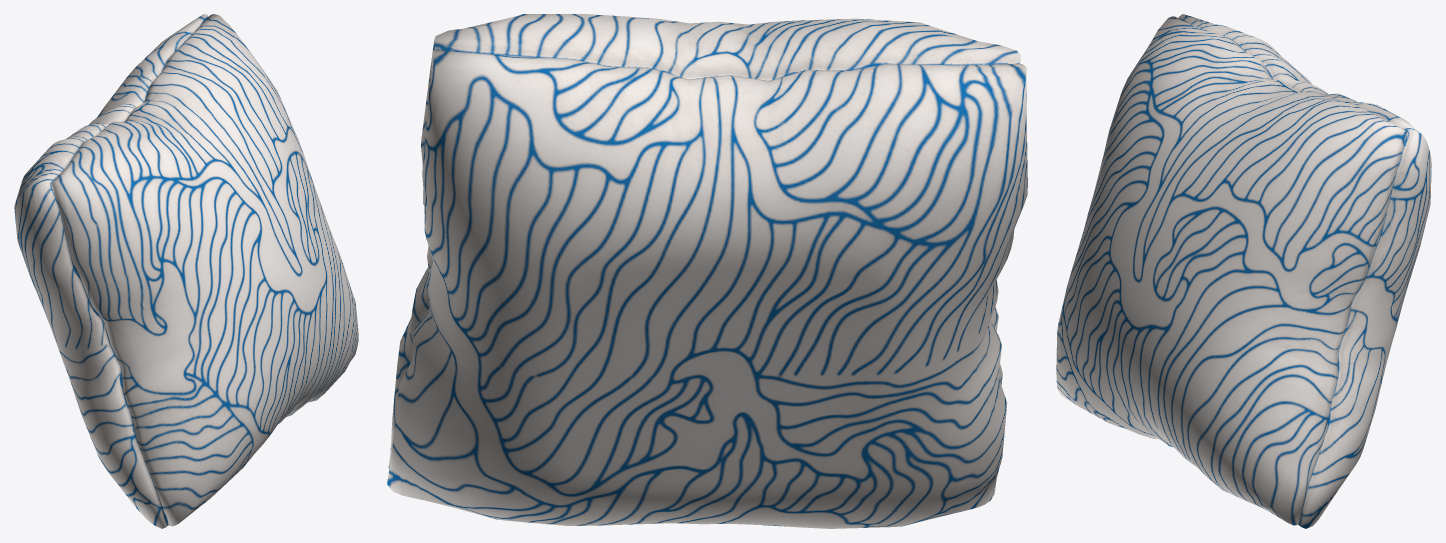
File: simple_waves_cushionpillow.glb
3 views of the same model, side by side, from view 1: azimuth 30°, elevation 25°; view 2: azimuth 150°, elevation 25°; view 3: azimuth 270°, elevation 25° (orthographic). The views are drawn at different scales.
Visible parts, largest first — view 1: Cushion Retopo; view 2: Cushion Retopo; view 3: Cushion Retopo.
Boxes of the visible parts, box(x1,y1,x2,y2) form: Cushion Retopo: box(14, 14, 358, 528); Cushion Retopo: box(387, 14, 1027, 528); Cushion Retopo: box(1056, 14, 1431, 528).
Bounding box in the file's own units: 631 × 590 × 527.
1 material, 1 textured.
